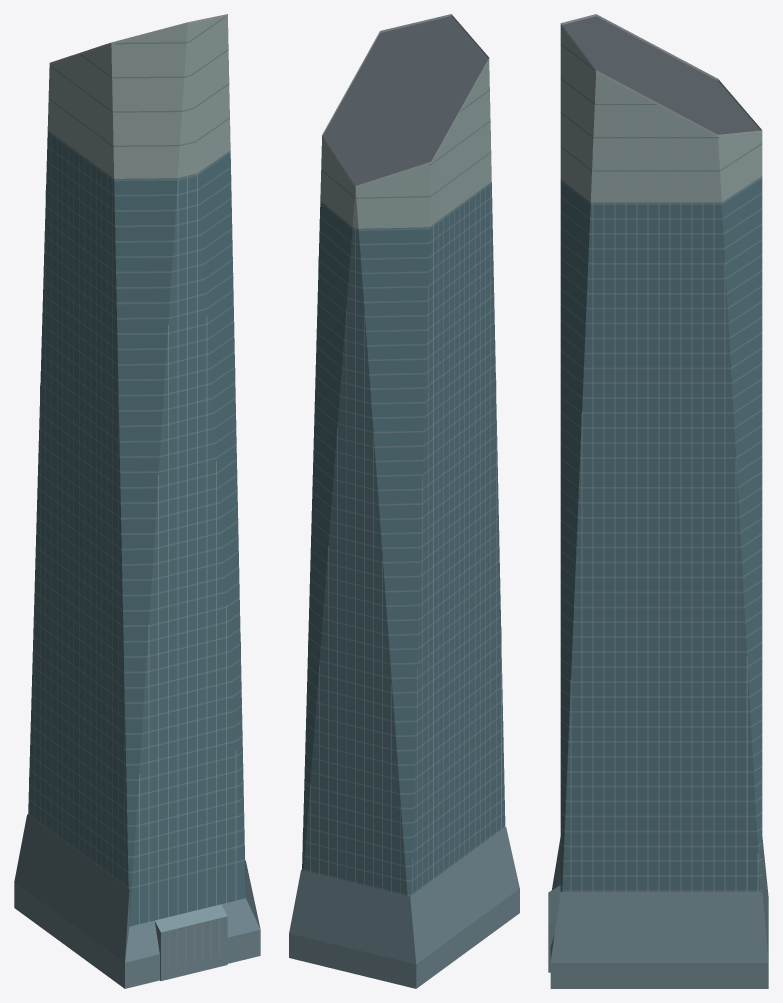
3 views of the same model, side by side, from view 1: azimuth 30°, elevation 25°; view 2: azimuth 150°, elevation 25°; view 3: azimuth 270°, elevation 25° (orthographic). The views are drawn at different scales.
Parts seen in each view (by area): view 1: tower_glass, hall_glass, roof; view 2: tower_glass, roof, hall_glass; view 3: tower_glass, roof, hall_glass.
Part boxes in pixels (x1,y1,x2,y2): tower_glass: (28, 16, 245, 926); hall_glass: (14, 814, 260, 988); roof: (29, 14, 240, 924); tower_glass: (302, 60, 505, 896); roof: (302, 14, 501, 895); hall_glass: (289, 827, 519, 988); tower_glass: (560, 26, 762, 891); roof: (560, 14, 762, 892); hall_glass: (548, 837, 768, 988).
Bounding box in the file's own units: 37.9 × 253 × 54.07.
